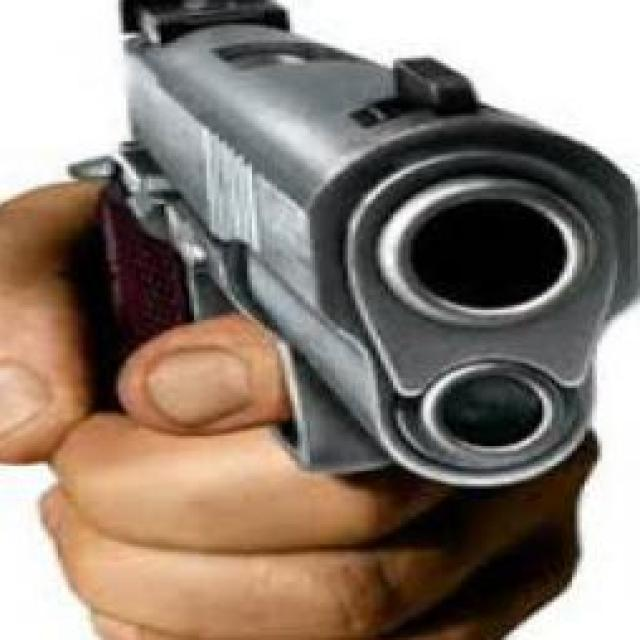pistol: (76, 0, 640, 504)
